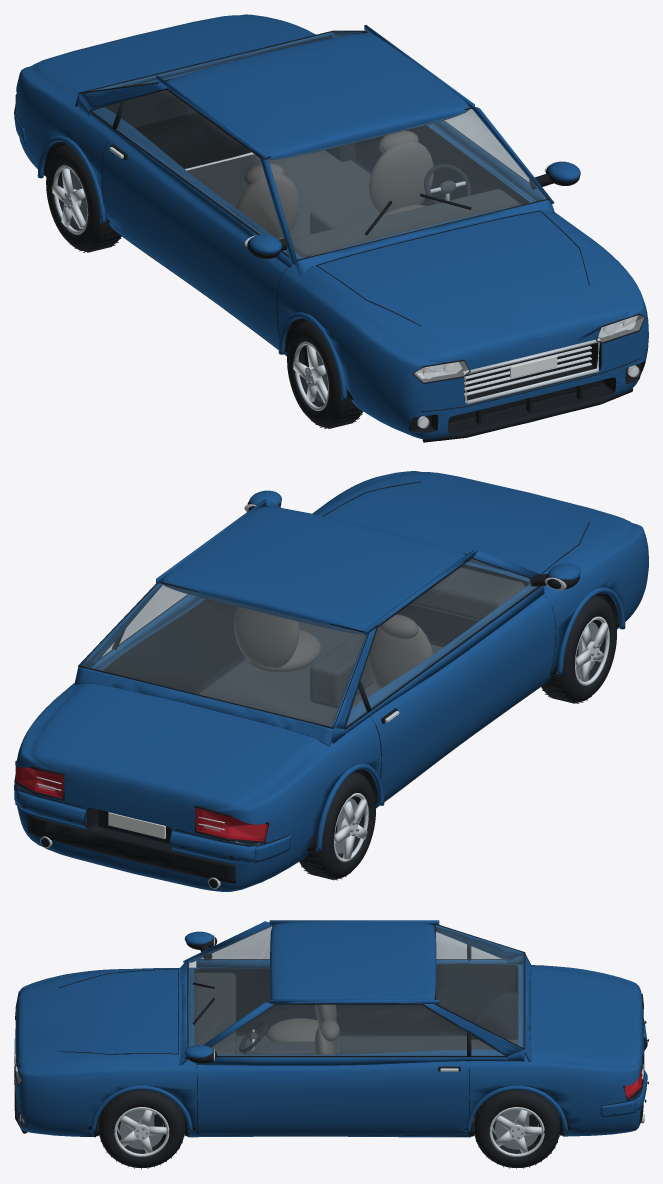
The model's file is road-meridian-gt.glb.
3 views of the same model, one above another, from view 1: azimuth 30°, elevation 25°; view 2: azimuth 150°, elevation 25°; view 3: azimuth 270°, elevation 25° (orthographic). The views are drawn at different scales.
Visible parts, largest first — view 1: Aerodynamic mirror painted cap, Raked transparent windscreen, Aerodynamic mirror lower housing, Center console, Contoured seat back, Door pull, Original tyre carcass and shaped sidewalls.001, Original tyre carcass and shaped sidewalls.003, Clear reversing lens insert, Cast swept alloy spoke.015, Cast swept alloy spoke.005; view 2: Aerodynamic mirror painted cap, Raked transparent windscreen, Aerodynamic mirror lower housing, Center console, Contoured seat back, Original tyre carcass and shaped sidewalls.001, Original tyre carcass and shaped sidewalls.003, Flush corner wrapping ruby lamp lens, Cast swept alloy spoke.015, Cast swept alloy spoke.005, Front license plate, Door pull; view 3: Aerodynamic mirror painted cap, Raked transparent windscreen, Aerodynamic mirror lower housing, Center console, Original tyre carcass and shaped sidewalls.002, Original tyre carcass and shaped sidewalls, Contoured seat back, Cast swept alloy spoke, Cast swept alloy spoke.010, Deep wheel barrel inner lip, Deep wheel barrel inner lip.002, Continuous circumferential tread rib.
Boxes of the visible parts, <box> form: Aerodynamic mirror painted cap: <box>14,14,648,440</box>; Raked transparent windscreen: <box>92,32,546,259</box>; Aerodynamic mirror lower housing: <box>14,30,645,442</box>; Center console: <box>187,150,521,257</box>; Contoured seat back: <box>236,130,433,239</box>; Door pull: <box>109,147,638,427</box>; Original tyre carcass and shaped sidewalls.001: <box>287,321,362,428</box>; Original tyre carcass and shaped sidewalls.003: <box>46,144,121,251</box>; Clear reversing lens insert: <box>414,315,644,428</box>; Cast swept alloy spoke.015: <box>52,165,88,234</box>; Cast swept alloy spoke.005: <box>293,341,328,410</box>; Aerodynamic mirror painted cap: <box>14,471,648,891</box>; Raked transparent windscreen: <box>81,559,538,726</box>; Aerodynamic mirror lower housing: <box>14,481,619,888</box>; Center console: <box>199,567,525,725</box>; Contoured seat back: <box>234,606,432,689</box>; Original tyre carcass and shaped sidewalls.001: <box>541,596,616,702</box>; Original tyre carcass and shaped sidewalls.003: <box>299,772,375,879</box>; Flush corner wrapping ruby lamp lens: <box>16,767,267,841</box>; Cast swept alloy spoke.015: <box>334,793,368,862</box>; Cast swept alloy spoke.005: <box>575,616,609,685</box>; Front license plate: <box>108,812,165,838</box>; Door pull: <box>36,504,566,889</box>; Aerodynamic mirror painted cap: <box>15,920,647,1137</box>; Raked transparent windscreen: <box>188,925,523,1055</box>; Aerodynamic mirror lower housing: <box>14,924,648,1136</box>; Center console: <box>194,972,518,1123</box>; Original tyre carcass and shaped sidewalls.002: <box>474,1090,559,1167</box>; Original tyre carcass and shaped sidewalls: <box>99,1090,184,1167</box>; Contoured seat back: <box>266,1004,339,1054</box>; Cast swept alloy spoke: <box>114,1107,169,1156</box>; Cast swept alloy spoke.010: <box>489,1107,544,1156</box>; Deep wheel barrel inner lip: <box>117,1109,163,1149</box>; Deep wheel barrel inner lip.002: <box>492,1109,538,1149</box>; Continuous circumferential tread rib: <box>99,1090,559,1169</box>.
Bounding box in the file's own units: 2.24 × 1.35 × 4.84.
